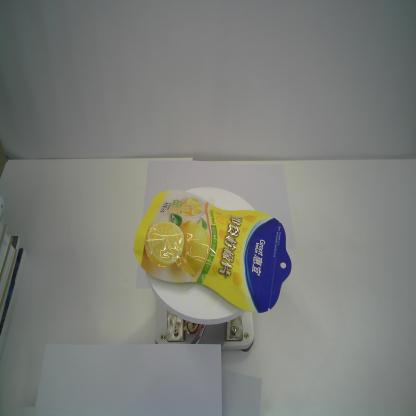Dried Fruit: (134, 188, 292, 314)
